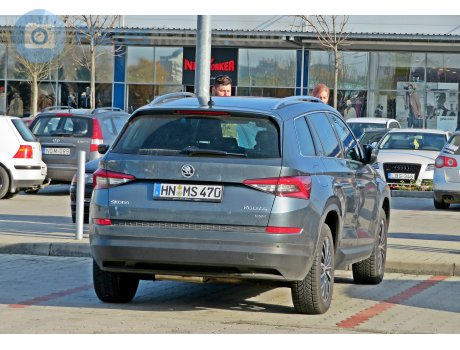License Plates: (159, 182, 223, 199)
